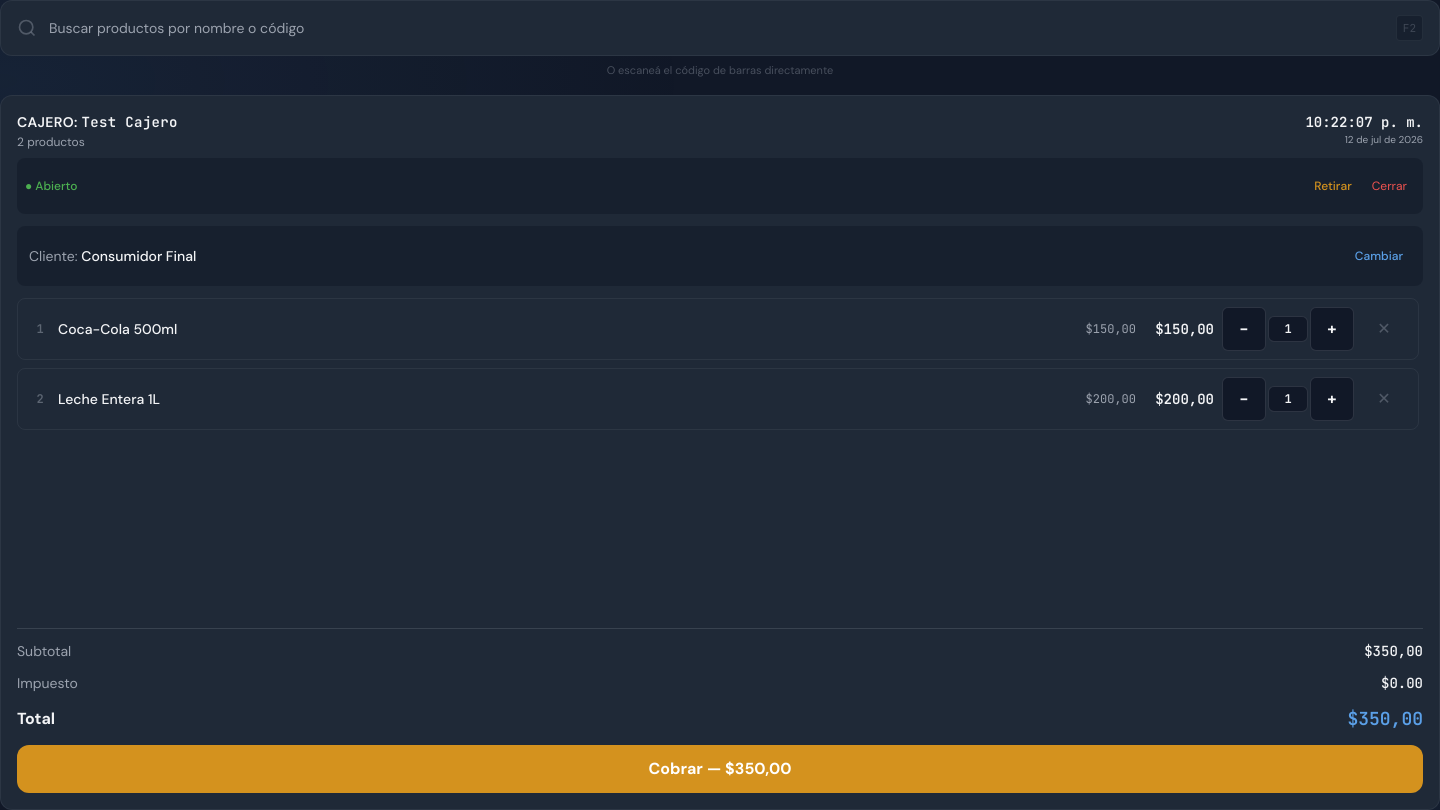
Test case: Mixed payment — integration › 3.4 shows cash/card inputs when Mixto is selected
Press F1
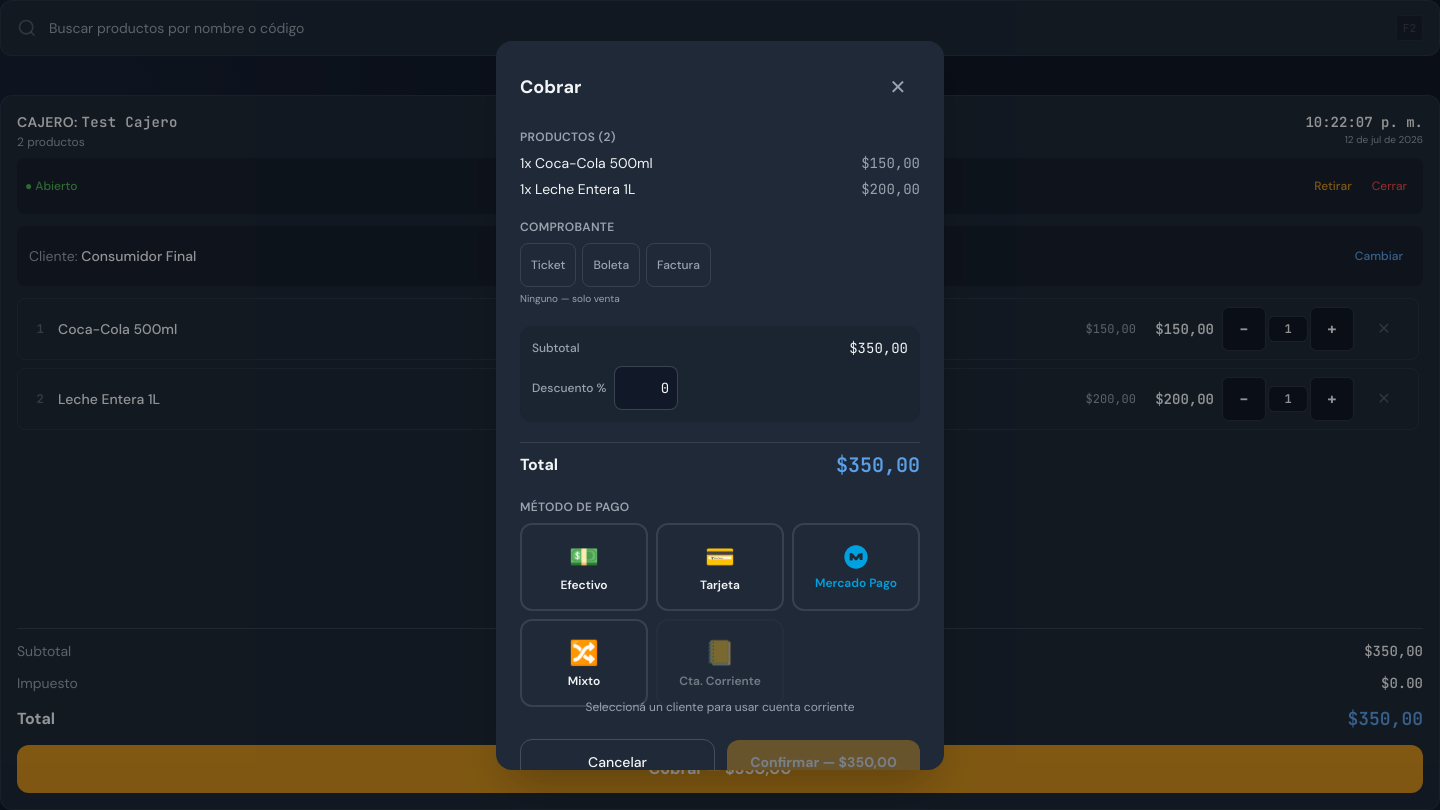
Click the text "Mixto".
click(584, 680)  # box [568,672,600,688]
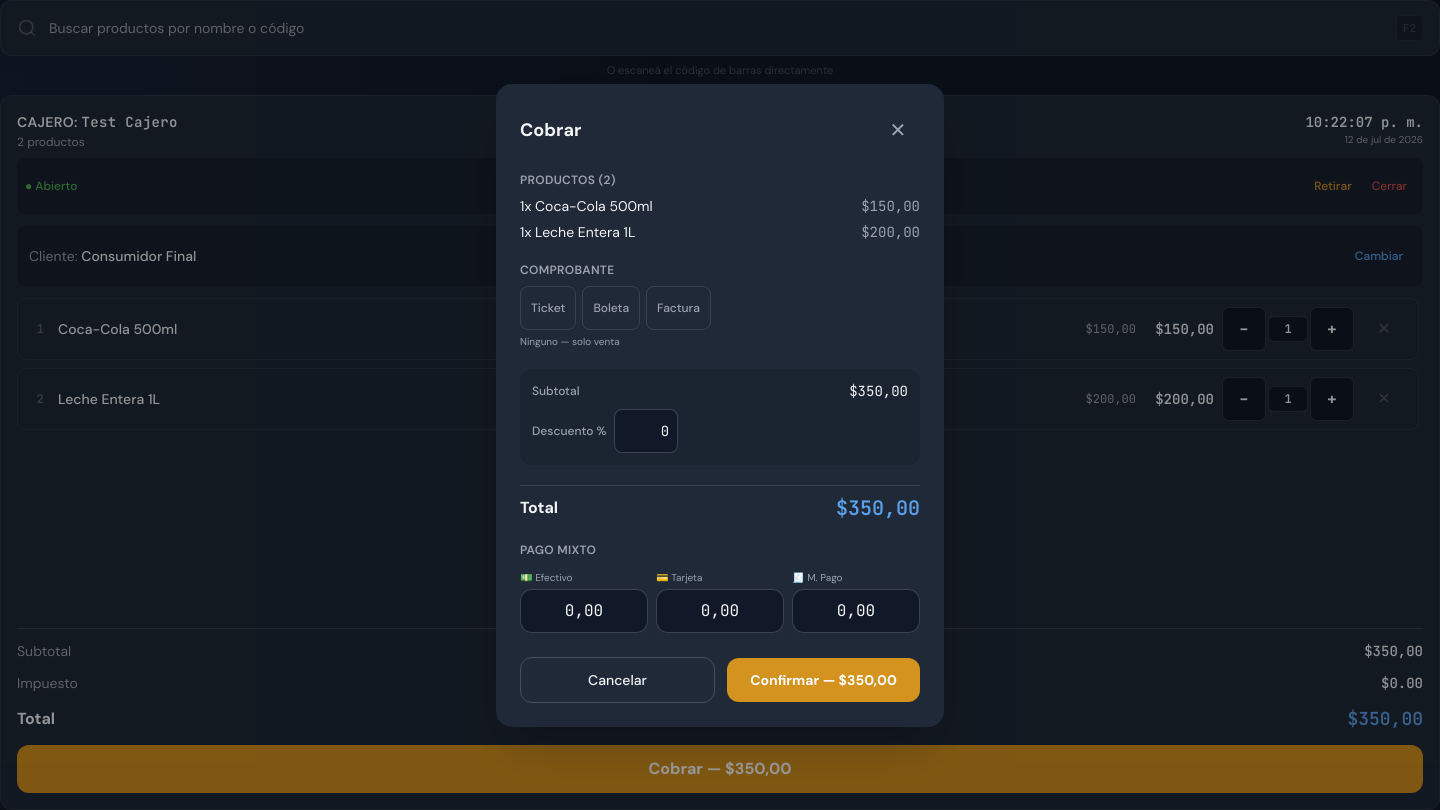
expect the field labelled "💵 Efectivo" is shown: met, box [520,588,648,632]
expect the field labelled "💳 Tarjeta" is shown: met, box [656,588,784,632]
expect the field labelled "🧾 M. Pago" is shown: met, box [792,588,920,632]
